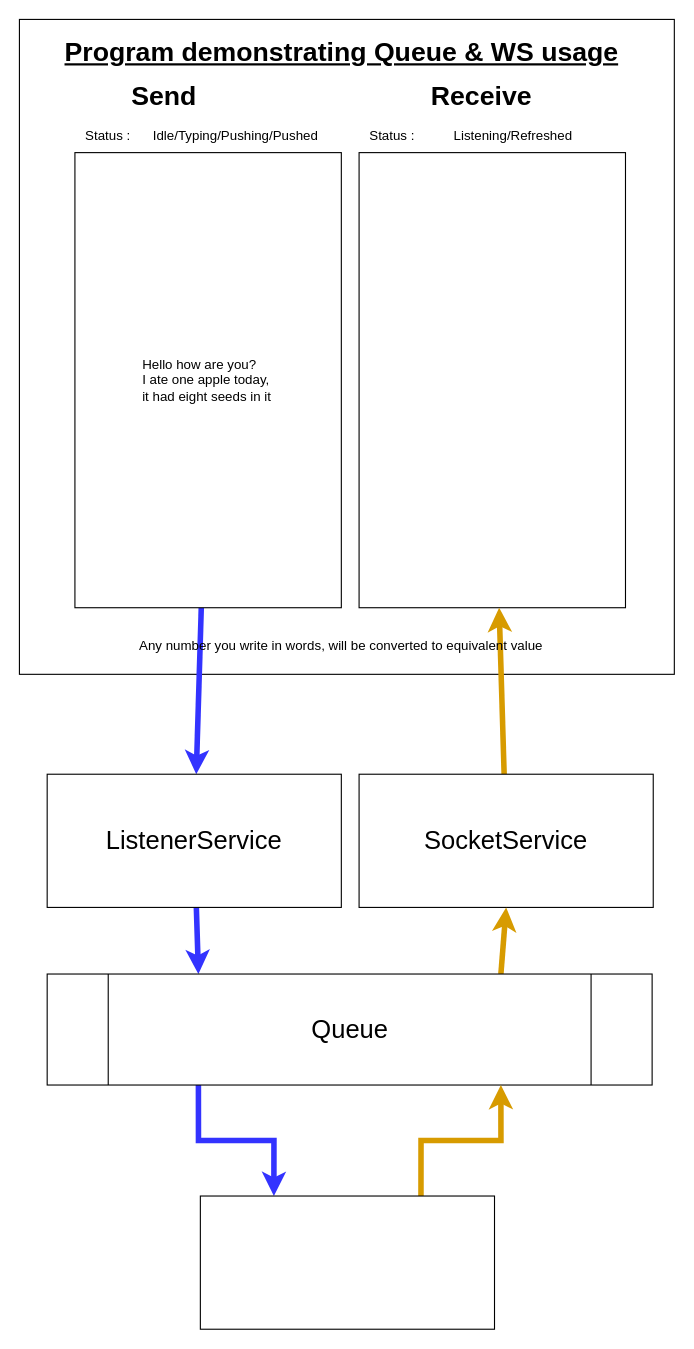
Some shapes in this 694 by 1349 pixel diagram are drawn without their labels. The shapes that lost their labels are listed below. From the top down, each one's box as (x1, y1, x2, y2) in pixels, then its label:
(358, 152, 625, 608): Hello how are you? I ate 1 apple today, it had 8 seeds in it
(199, 1195, 495, 1329): ParserService
